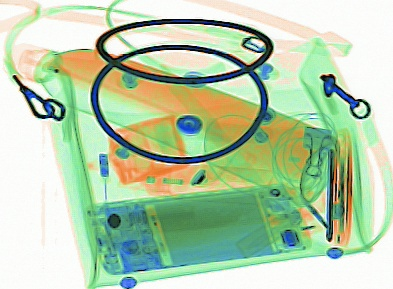pressure: (7, 41, 340, 206)
